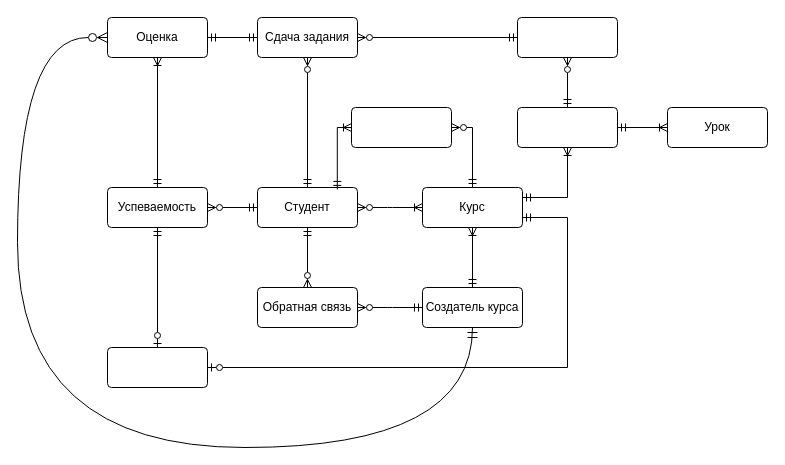
Image size: 785x465. Some labels were removed from this diagram. Each missing label, with the box of its shape:
Модуль: (516, 106, 618, 148)
Сертификат: (106, 346, 208, 388)
Условие задания: (516, 16, 618, 58)
Факт записи: (350, 106, 452, 148)
